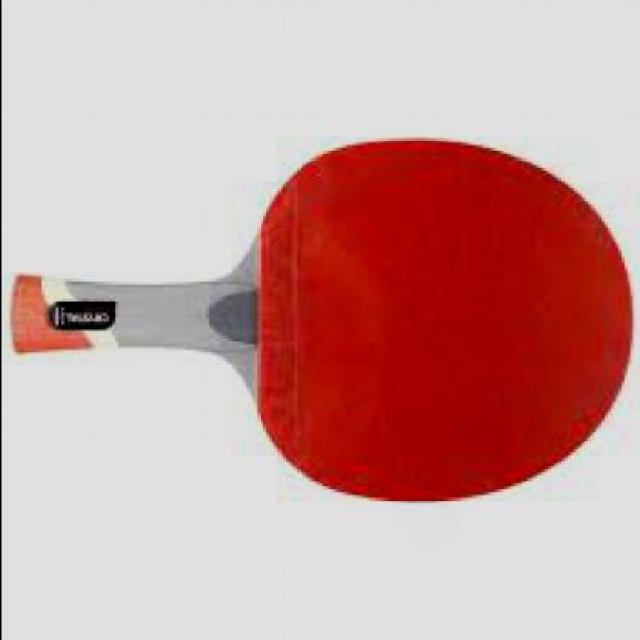table_tennis_racket: (233, 128, 639, 509)
